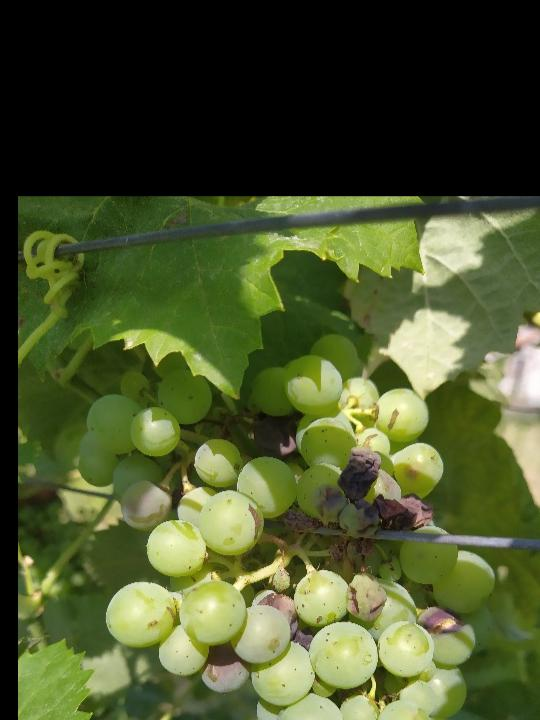grape: (75, 333, 496, 720)
